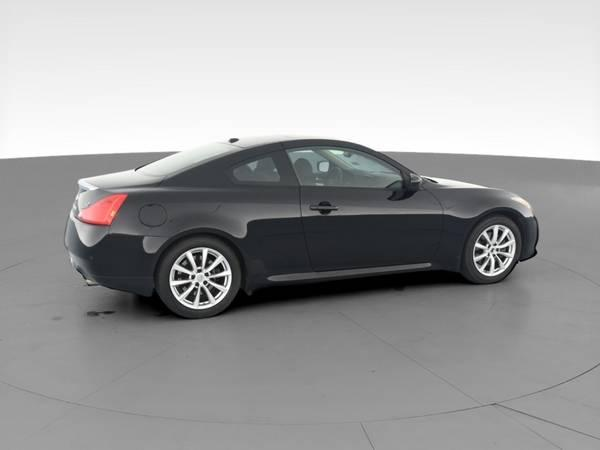Front_Bumper: (521, 217, 538, 259)
Front_Fender: (420, 179, 536, 268)
Front_Right_Door: (298, 186, 441, 276)
Front_Right_Window: (287, 144, 424, 187)
Rear_Bumper: (64, 211, 171, 291)
Rear_Fender: (112, 145, 315, 288)
Rear_Windshield: (136, 143, 243, 176)
Right_Taillight: (82, 189, 134, 224)
Roof: (160, 134, 415, 187)
Tailgate: (71, 169, 162, 219)
Wheel: (159, 235, 241, 318), (464, 217, 523, 280)
